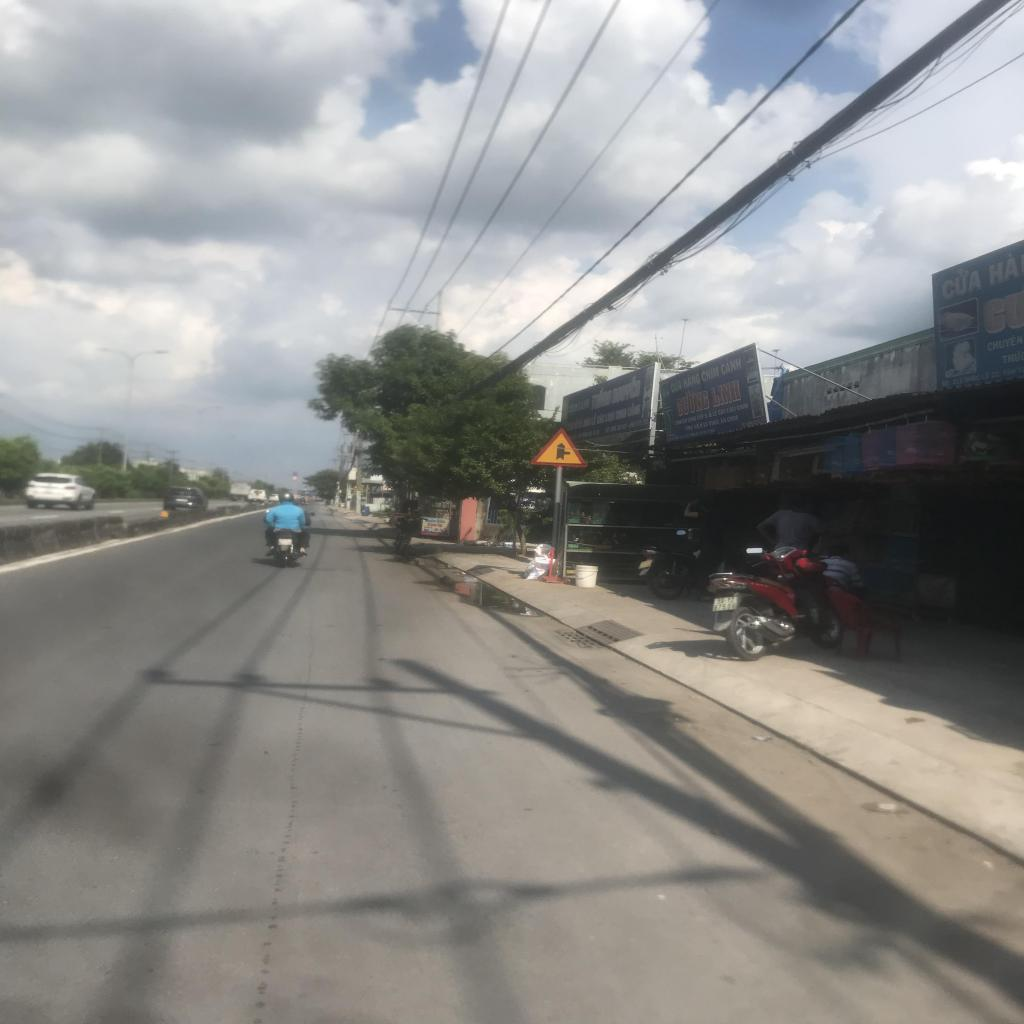giao_nhau_voi_duong_khong_uu_tien: (529, 426, 589, 467)
